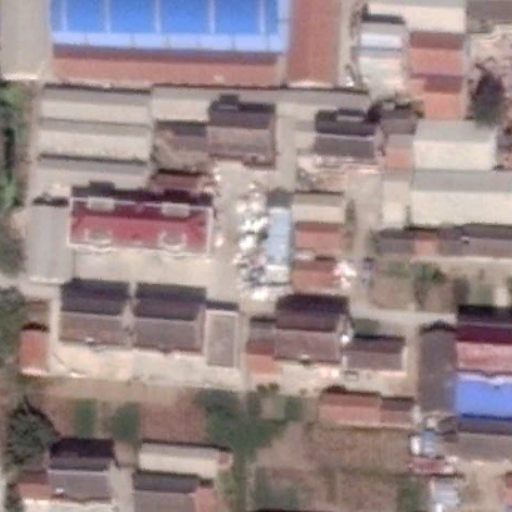msw: (230, 186, 273, 298)
